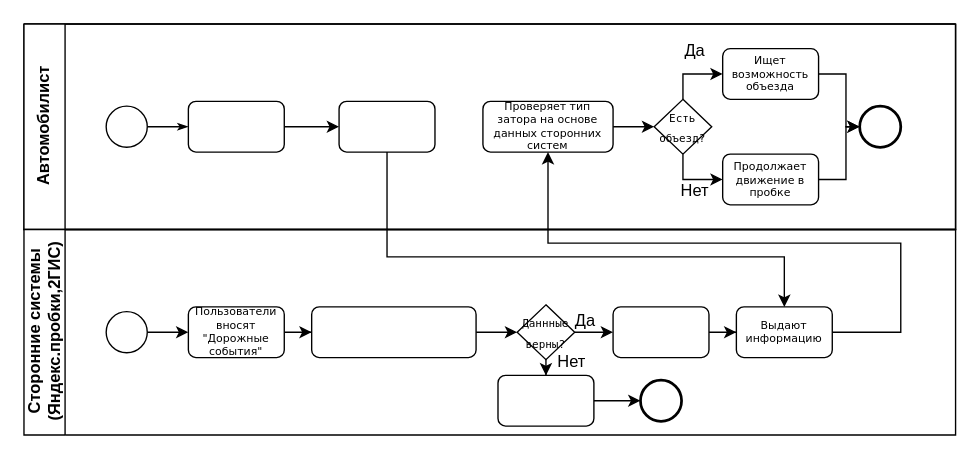
The diagram is 980 pixels wide and 459 high, and some of its shapes have lost their labels. Here are the shapes that lost their labels. From the top down, the centre of each, then its label:
[235,126]: Движется на автомобиле
[386,126]: Замечает затор
[393,332]: Последующим пользователям предлагается возможность подтвердить события
[660,332]: События находятся на странице в течении суток
[545,400]: События удаляется
